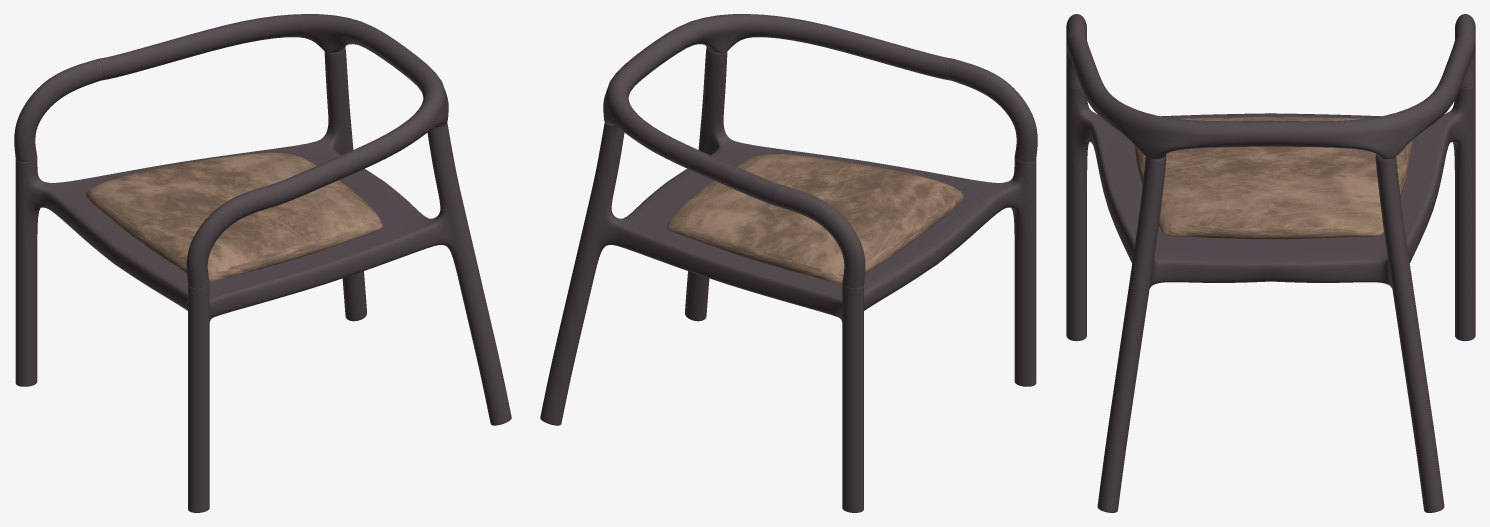
Rendered from ollie-cadeira.glb.
3 views of the same model, side by side, from view 1: azimuth 30°, elevation 25°; view 2: azimuth 150°, elevation 25°; view 3: azimuth 270°, elevation 25° (orthographic). The views are drawn at different scales.
Parts seen in each view (by area): view 1: 3DGeom-2 (×2), 3DGeom-7, 3DGeom-3 (×2), 3DGeom-1 (×2); view 2: 3DGeom-2 (×2), 3DGeom-7, 3DGeom-3 (×2), 3DGeom-1 (×2); view 3: 3DGeom-2 (×2), 3DGeom-7, 3DGeom-3 (×2), 3DGeom-1 (×2).
Part boxes in pixels (box(x1,y1,x2,y2)): 3DGeom-2 (×2): box(15, 47, 511, 512); 3DGeom-7: box(85, 152, 382, 281); 3DGeom-3 (×2): box(98, 14, 448, 206); 3DGeom-1 (×2): box(14, 59, 276, 288); 3DGeom-2 (×2): box(540, 47, 1036, 512); 3DGeom-7: box(667, 154, 963, 282); 3DGeom-3 (×2): box(603, 14, 953, 206); 3DGeom-1 (×2): box(775, 59, 1037, 288); 3DGeom-2 (×2): box(1066, 83, 1475, 512); 3DGeom-7: box(1134, 117, 1412, 239); 3DGeom-3 (×2): box(1066, 31, 1475, 159); 3DGeom-1 (×2): box(1066, 14, 1475, 87).
Bounding box in the file's own units: 0.6415 × 0.6026 × 0.5988.
Materials: 2 (1 with a texture image).
